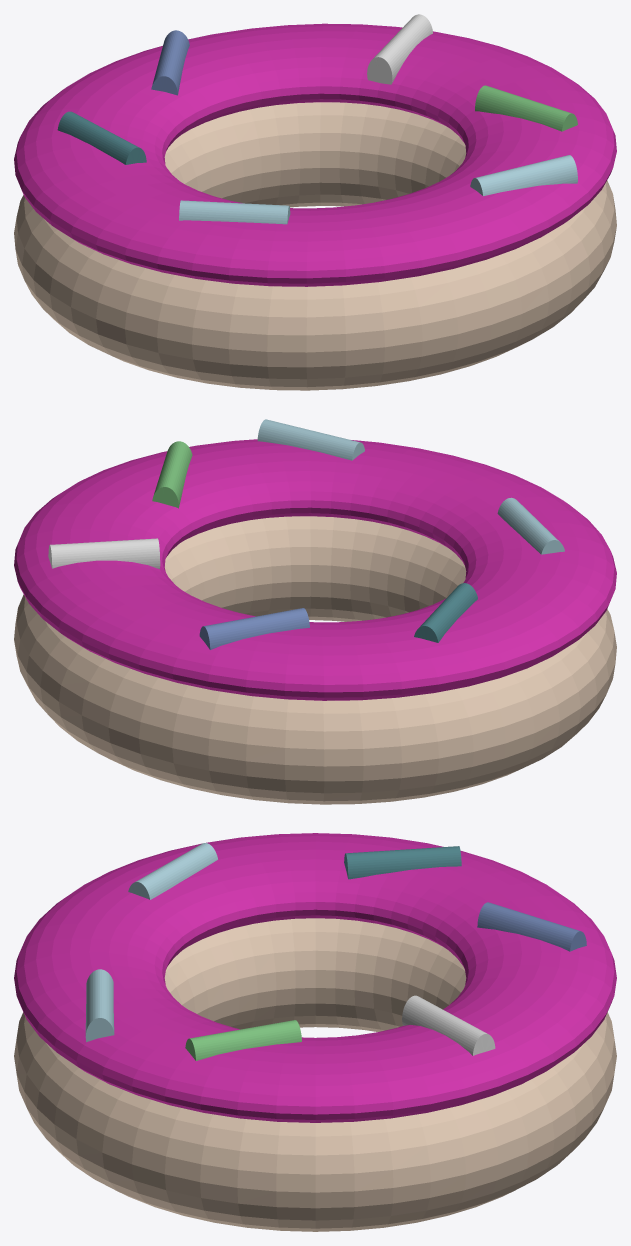
The model's file is Lewis- donut.glb.
3 renders of one model, top to bottom at view 1: azimuth 30°, elevation 25°; view 2: azimuth 150°, elevation 25°; view 3: azimuth 270°, elevation 25°, orthographic. The views are drawn at different scales.
Parts seen in each view (by area): view 1: Mesh_Mesh_head_geo.001_lambert2SG.001; view 2: Mesh_Mesh_head_geo.001_lambert2SG.001; view 3: Mesh_Mesh_head_geo.001_lambert2SG.001.
Boxes of the visible parts, <box> form: Mesh_Mesh_head_geo.001_lambert2SG.001: <box>14,14,616,390</box>; Mesh_Mesh_head_geo.001_lambert2SG.001: <box>14,419,616,804</box>; Mesh_Mesh_head_geo.001_lambert2SG.001: <box>14,833,616,1231</box>.
Bounding box in the file's own units: 0.045 × 0.014 × 0.042.
